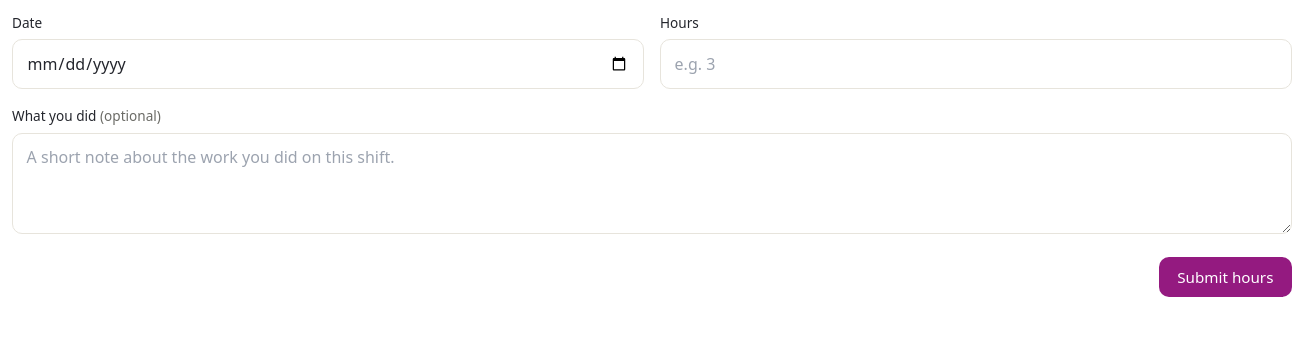
Scenario: SubmitHoursForm › blocks submission and shows field messages when the date or hours are missing
This screenshot has width=1304, height=345.
Click the button "Submit hours": (1225, 277) [1159,257,1292,297]
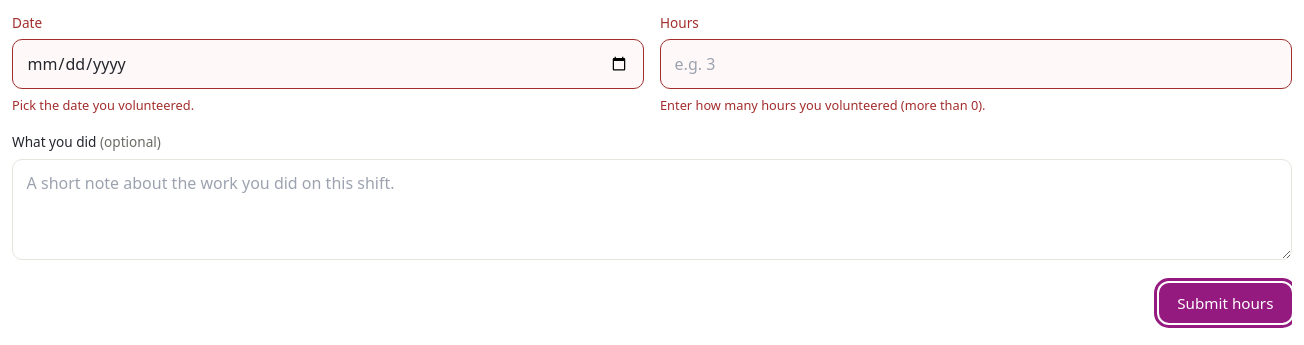
Result: the text "Pick the date you volunteered." is shown at [12,96,194,114]
Result: the text "Enter how many hours you volunteered (more than 0)." is shown at [660,96,986,114]
# Filling the date clears its message.
In the date field labelled "Date": (328, 64) [12,39,644,89], type "2026-08-01"
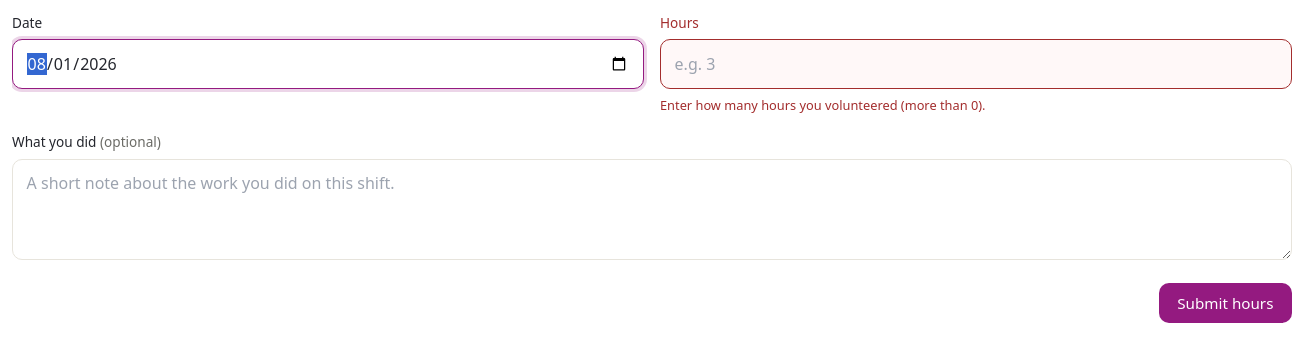
Result: the text "Pick the date you volunteered" is gone
